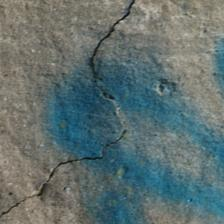Crack: (82, 0, 167, 115), (10, 38, 117, 102)
